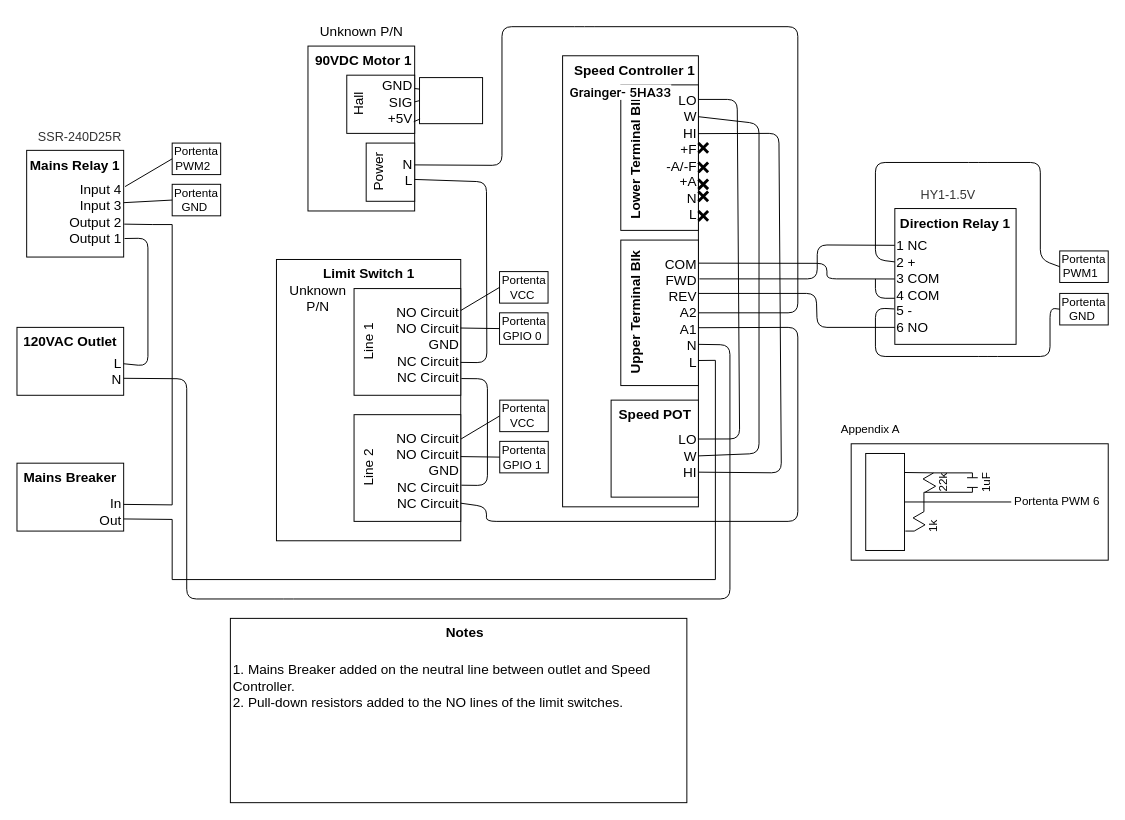
Image size: 1125x820. Some labels were removed from this diagram. Each missing label, with the centre of its shape:
"GND SIG 5V" goes at pixel 885 501.
"See Appendix A" goes at pixel 451 100.
